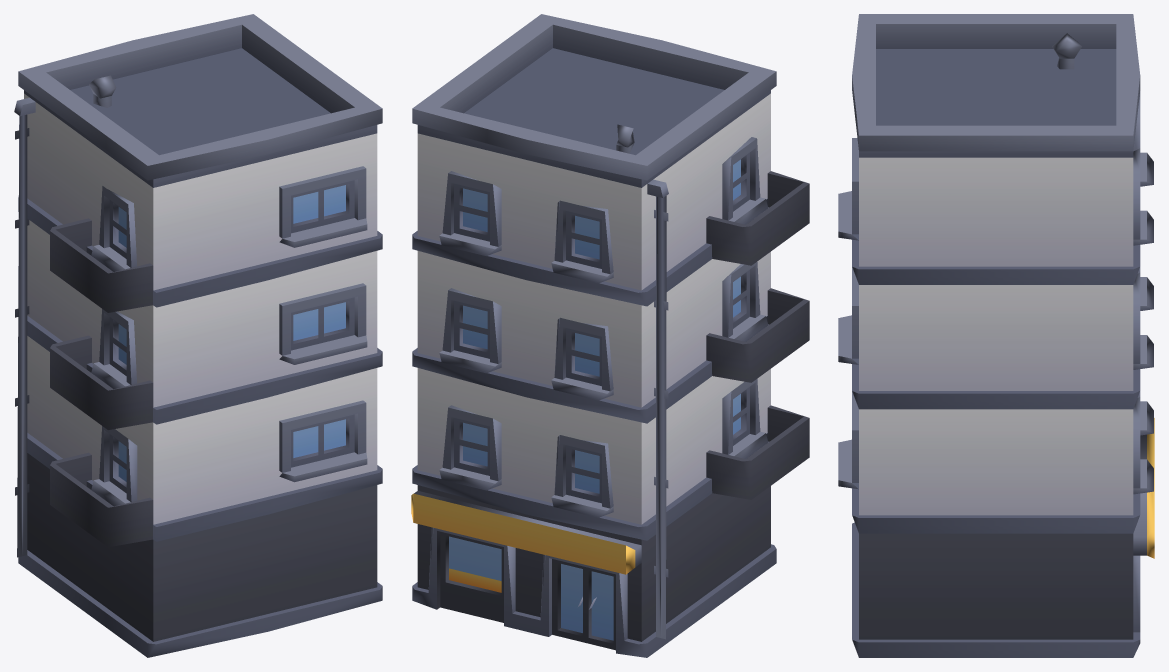
Rendered from 081_city-kit-commercial_building-g_card.glb.
The picture shows the model from 3 angles, left to right: view 1: azimuth 30°, elevation 25°; view 2: azimuth 150°, elevation 25°; view 3: azimuth 270°, elevation 25°; orthographic projection. The views are drawn at different scales.
Visible parts, largest first — view 1: building-g; view 2: building-g; view 3: building-g.
Part boxes in pixels (bbox=[...]): building-g: bbox=[14, 14, 382, 657]; building-g: bbox=[411, 14, 809, 657]; building-g: bbox=[838, 14, 1154, 657].
Size of the model in its own units: 0.97 by 1.69 by 0.922.
1 material, 1 textured.
